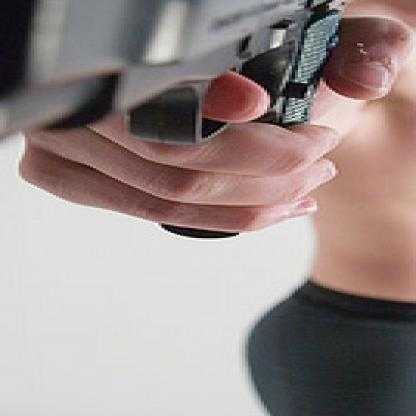gun: (0, 0, 389, 247)
